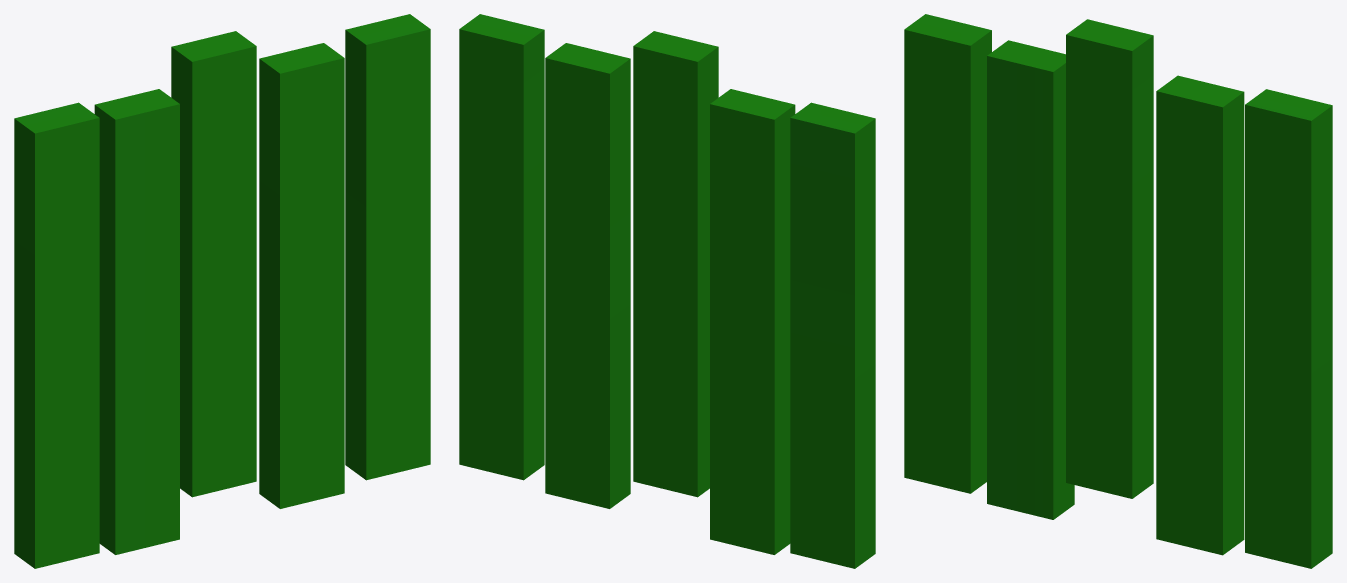
The model's file is Herbe2.fbx.
The picture shows the model from 3 angles, left to right: view 1: azimuth 30°, elevation 25°; view 2: azimuth 150°, elevation 25°; view 3: azimuth 330°, elevation 25°; orthographic projection. The views are drawn at different scales.
Visible parts, largest first — view 1: Herbe2; view 2: Herbe2; view 3: Herbe2.
Boxes of the visible parts, x1,y1,x2,y2 form: Herbe2: (14,14,430,568); Herbe2: (459,14,875,568); Herbe2: (904,14,1332,568).
Bounding box in the file's own units: 142 × 163 × 12.89.
